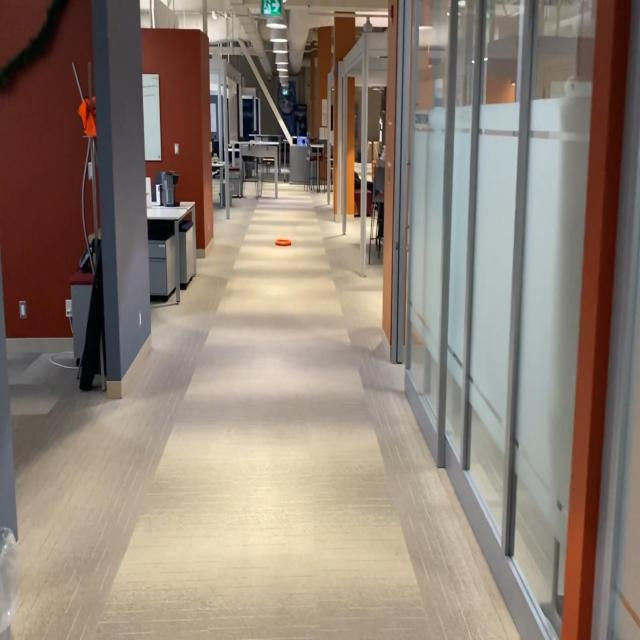note: (274, 236, 292, 248)
